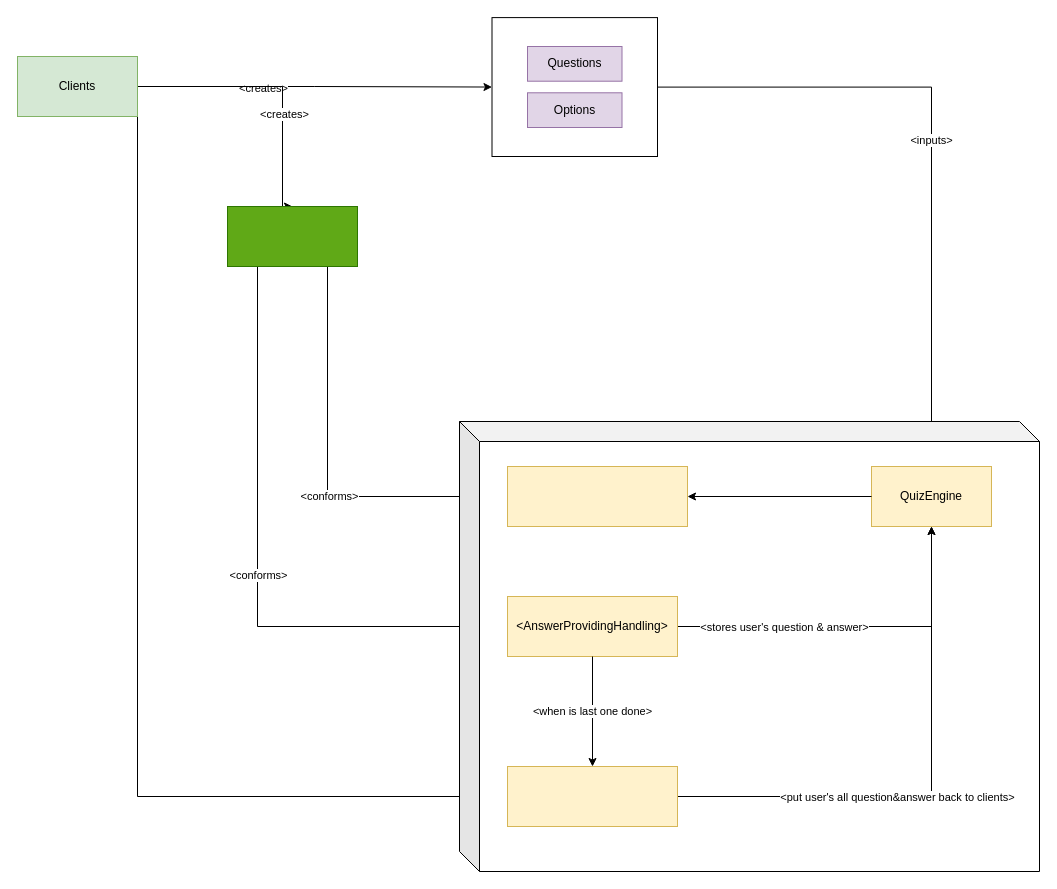
Image size: 1057x889. Some labels were removed from this diagram. Here are the shapes that lost their labels. From the top down, the box of each, then its label:
(226, 206, 358, 266): Answering Screen
(506, 466, 688, 526): <AnsweringUIProviding>
(506, 766, 678, 826): <AnswerCompletionHandling>
